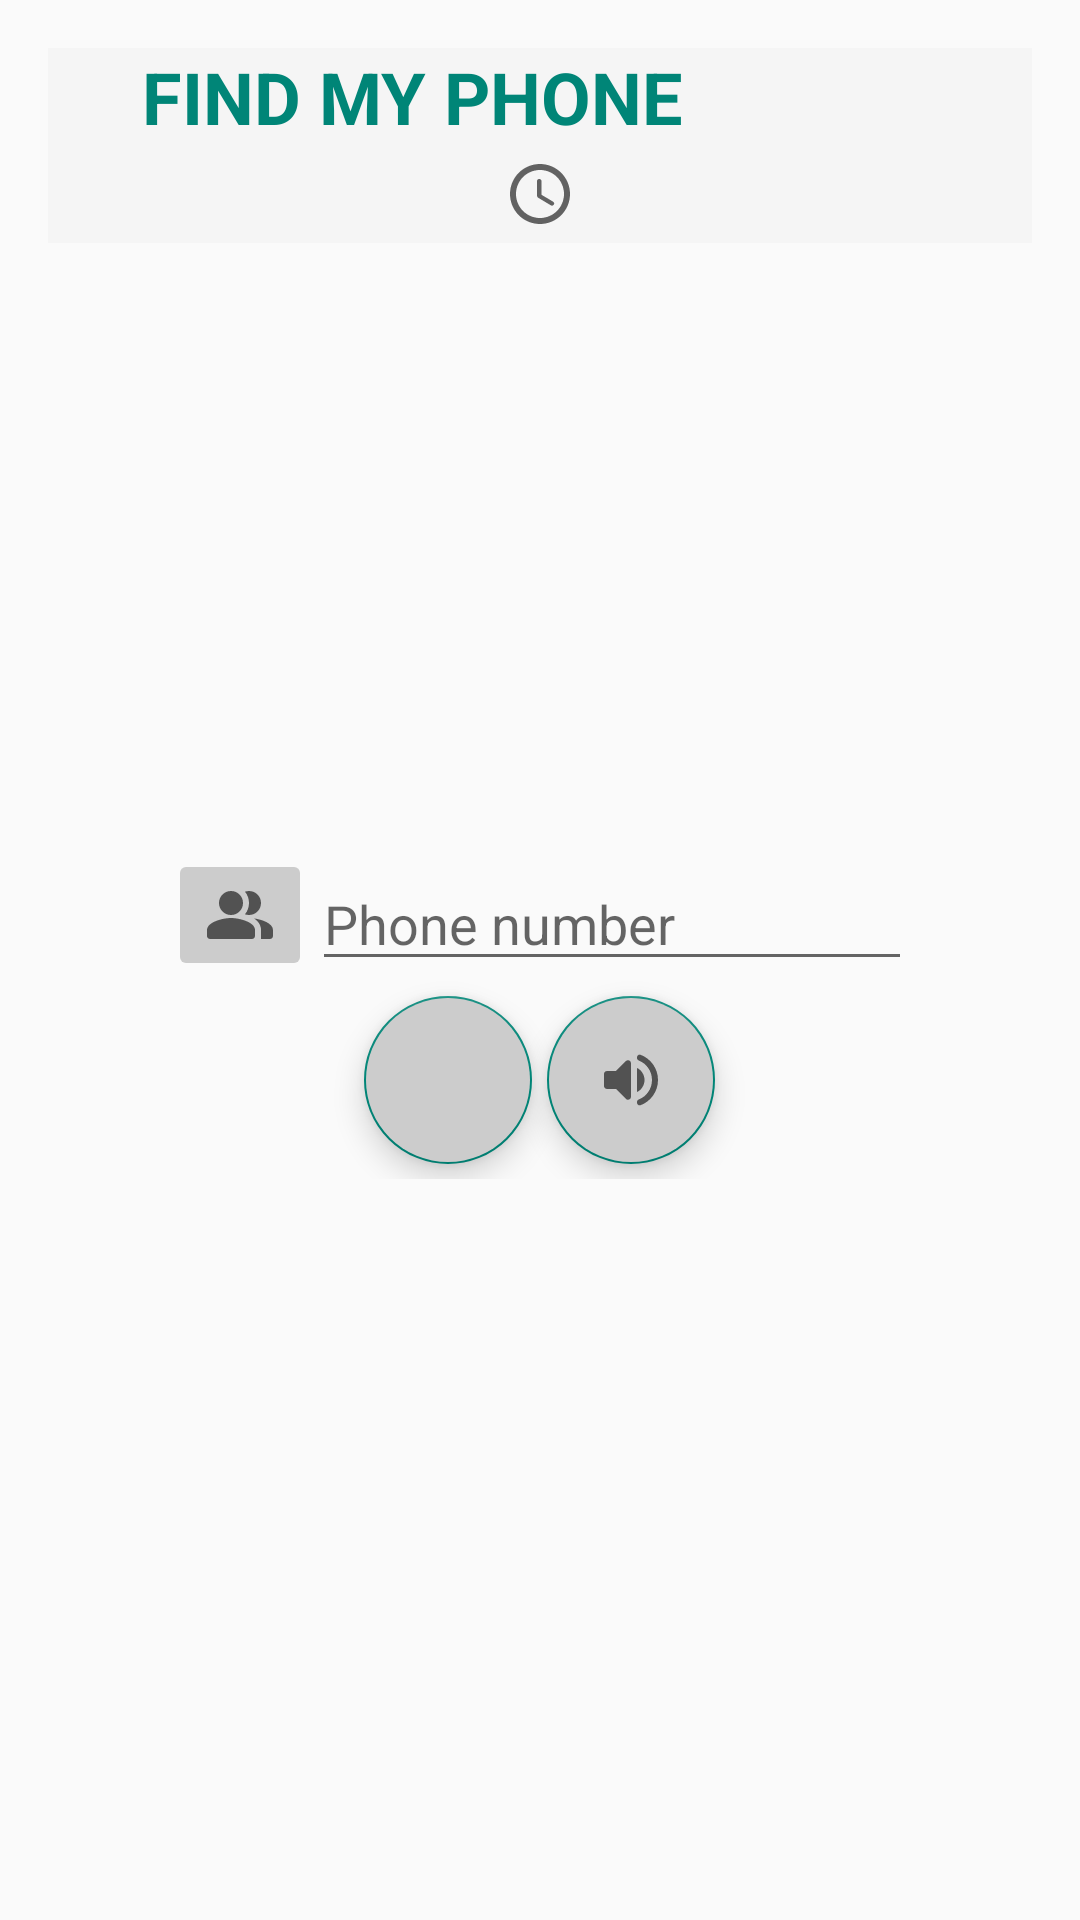

Icons on this 1080 x 1920 Android screen, each with its box as (x1, y1, x2, y2):
CONTACTS BUTTON: (180, 867, 300, 963)
schedule: (510, 164, 570, 224)
